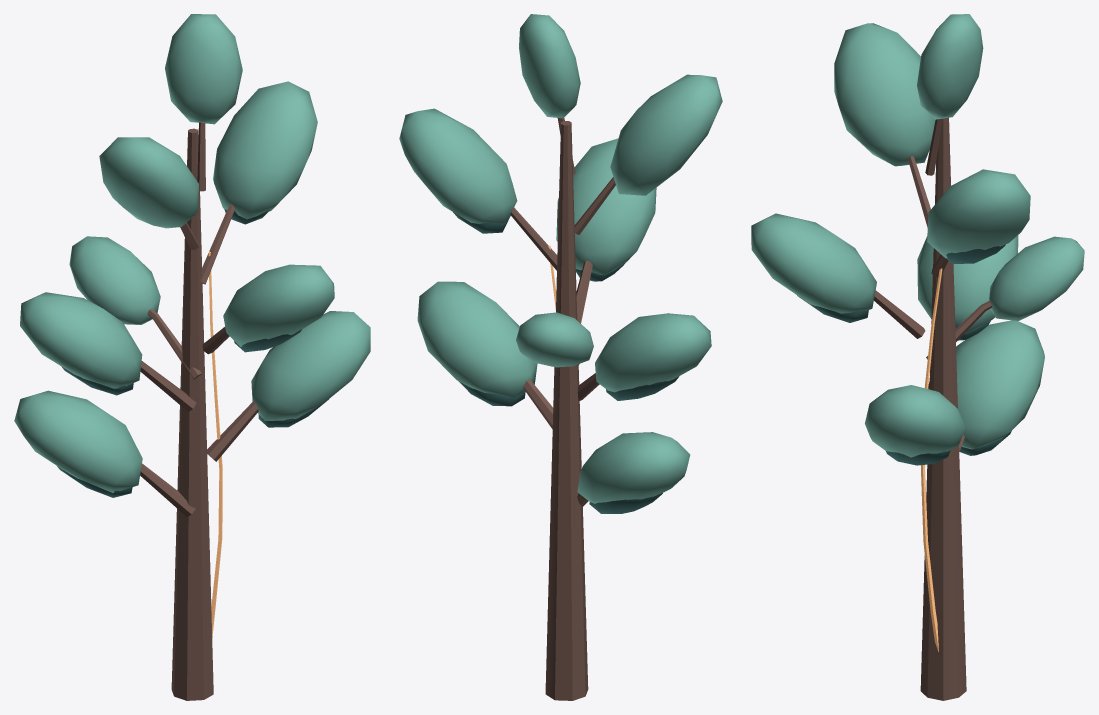
The model's file is glimmerwood_tree_tall.glb.
3 views of the same model, side by side, from view 1: azimuth 30°, elevation 25°; view 2: azimuth 150°, elevation 25°; view 3: azimuth 270°, elevation 25° (orthographic). The views are drawn at different scales.
Visible parts, largest first — view 1: glimmerwood_tree_tall; view 2: glimmerwood_tree_tall; view 3: glimmerwood_tree_tall.
Part boxes in pixels (x1=…): glimmerwood_tree_tall: x1=14, y1=14, x2=370, y2=700; glimmerwood_tree_tall: x1=399, y1=14, x2=722, y2=700; glimmerwood_tree_tall: x1=751, y1=14, x2=1084, y2=700.
Bounding box in the file's own units: 3.22 × 6.65 × 2.94.
